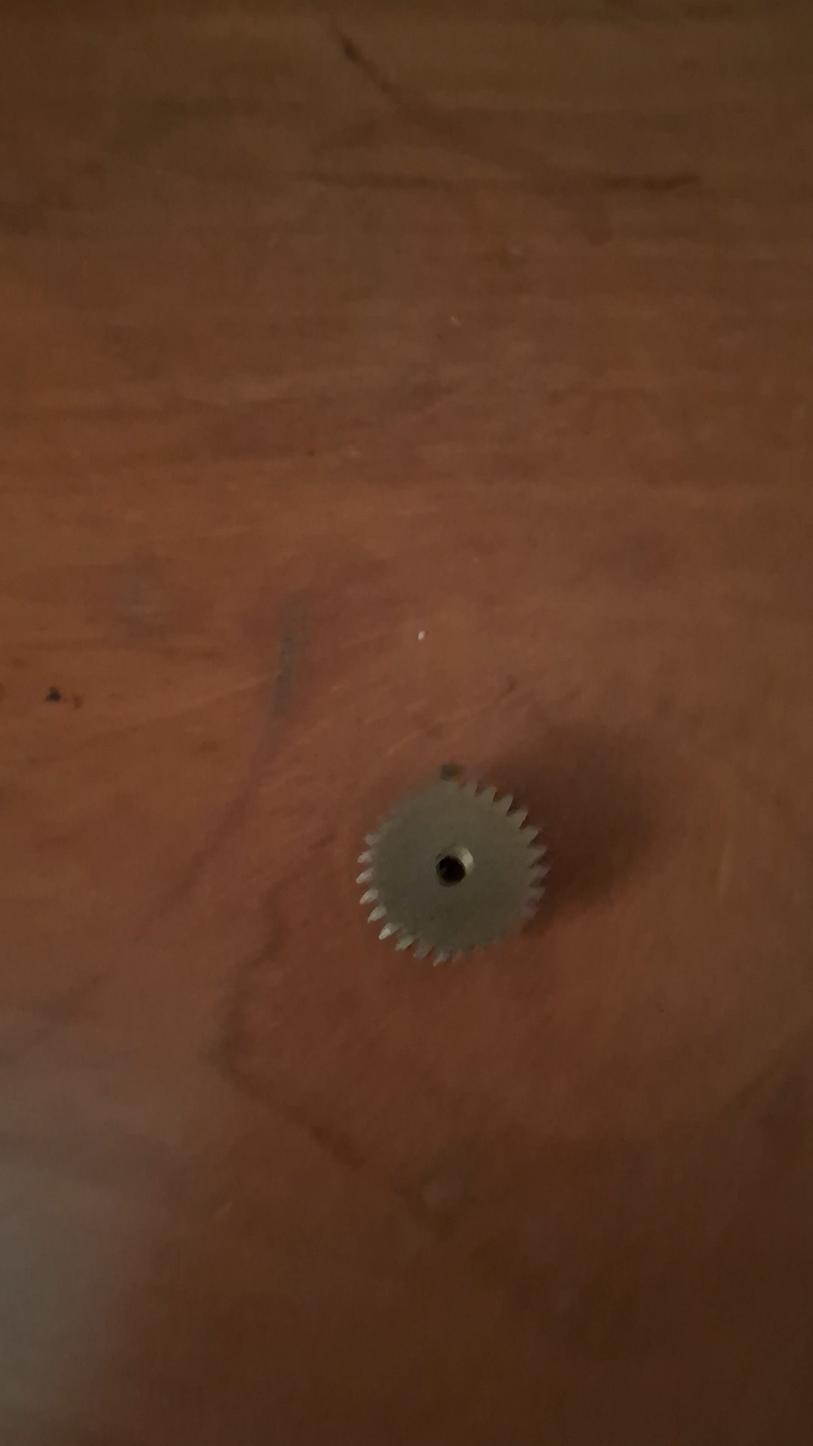spur gear: (358, 773, 547, 963)
